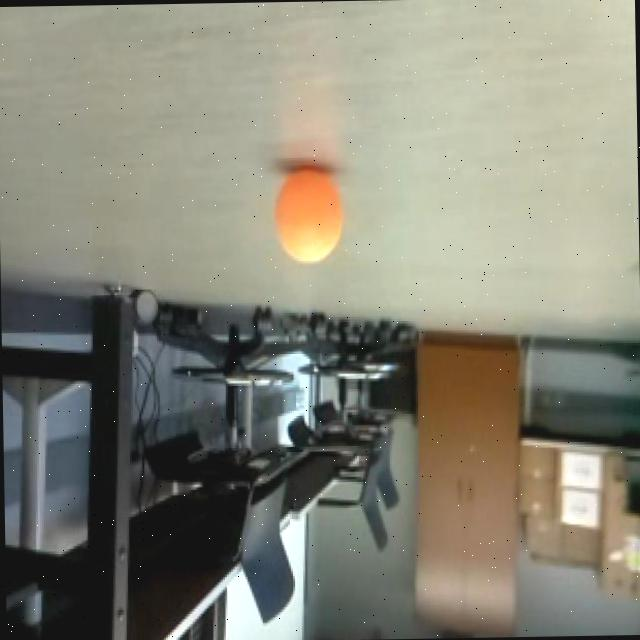ping-pong-ball: (265, 165, 347, 270)
